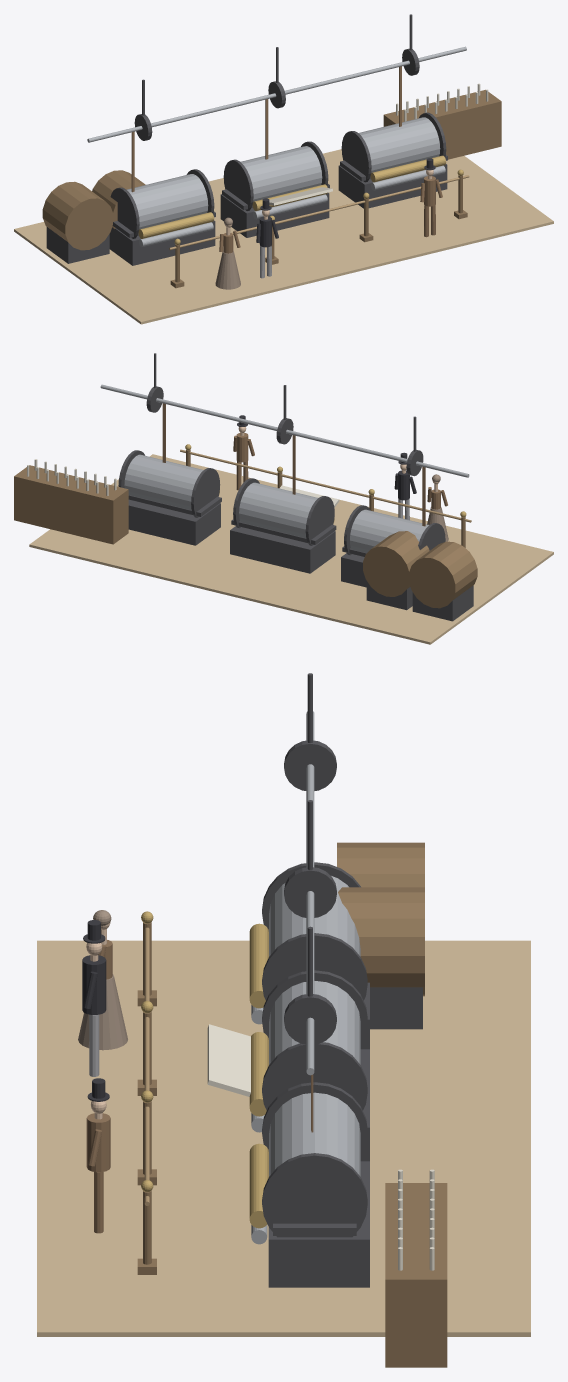
File: scan-fig29-platt-cotton-machines-muse.glb
3 views of the same model, one above another, from view 1: azimuth 30°, elevation 25°; view 2: azimuth 150°, elevation 25°; view 3: azimuth 270°, elevation 25° (orthographic). The views are drawn at different scales.
Parts seen in each view (by area): view 1: Floor, SpinFrame, ArchCover_0, CardDrum_0.0, CardDrum_-2.9, CardDrum_3.0, CardBase_-2.9, CardBase_3.0, CardBase_0.0, LineShaft, ArchBase_0, ArchCover_1 (+11 smaller); view 2: Floor, SpinFrame, ArchCover_0, CardBase_0.0, CardDrum_0.0, CardDrum_3.0, ArchCover_1, CardBase_3.0, CardDrum_-2.9, LineShaft, ArchBase_0, CardCheek_3.0_-0.95 (+8 smaller); view 3: Floor, SpinFrame, ArchCover_1, CardCheek_3.0_0.95, CardBase_3.0, CardDrum_3.0, CardCheek_0.0_0.95, ArchCover_0, CardCheek_-2.9_0.95, CardDrum_0.0, CardDrum_-2.9, CardLap_0.0 (+16 smaller).
Boxes of the visible parts, x1,y1,x2,y2 form: Floor: (14,149,553,324); SpinFrame: (383,89,501,159); ArchCover_0: (42,181,113,250); CardDrum_0.0: (240,146,322,201); CardDrum_-2.9: (127,174,208,229); CardDrum_3.0: (358,117,440,172); CardBase_-2.9: (109,220,215,265); CardBase_3.0: (338,164,447,208); CardBase_0.0: (220,192,329,237); LineShaft: (87,46,466,142); ArchBase_0: (46,227,109,263); ArchCover_1: (92,170,145,228); Floor: (29,454,553,644); SpinFrame: (14,465,128,544); ArchCover_0: (408,541,477,608); CardBase_0.0: (230,526,335,573); CardDrum_0.0: (239,482,317,538); CardDrum_3.0: (124,454,203,510); ArchCover_1: (363,531,429,596); CardBase_3.0: (128,499,220,545); CardDrum_-2.9: (350,509,428,552); LineShaft: (100,384,469,477); ArchBase_0: (412,585,473,621); CardCheek_3.0_-0.95: (191,468,220,517); Floor: (37,940,530,1336); SpinFrame: (385,1183,447,1367); ArchCover_1: (338,887,424,996); CardCheek_3.0_0.95: (262,1153,367,1237); CardBase_3.0: (268,1161,369,1287); CardDrum_3.0: (269,1092,360,1176); CardCheek_0.0_0.95: (262,1042,367,1110); ArchCover_0: (337,842,424,887); CardCheek_-2.9_0.95: (262,933,367,1000); CardDrum_0.0: (269,981,360,1064); CardDrum_-2.9: (269,876,360,956); CardLap_0.0: (207,1024,250,1096).
Size of the model in its own units: 11.45 by 4.25 by 5.6.
